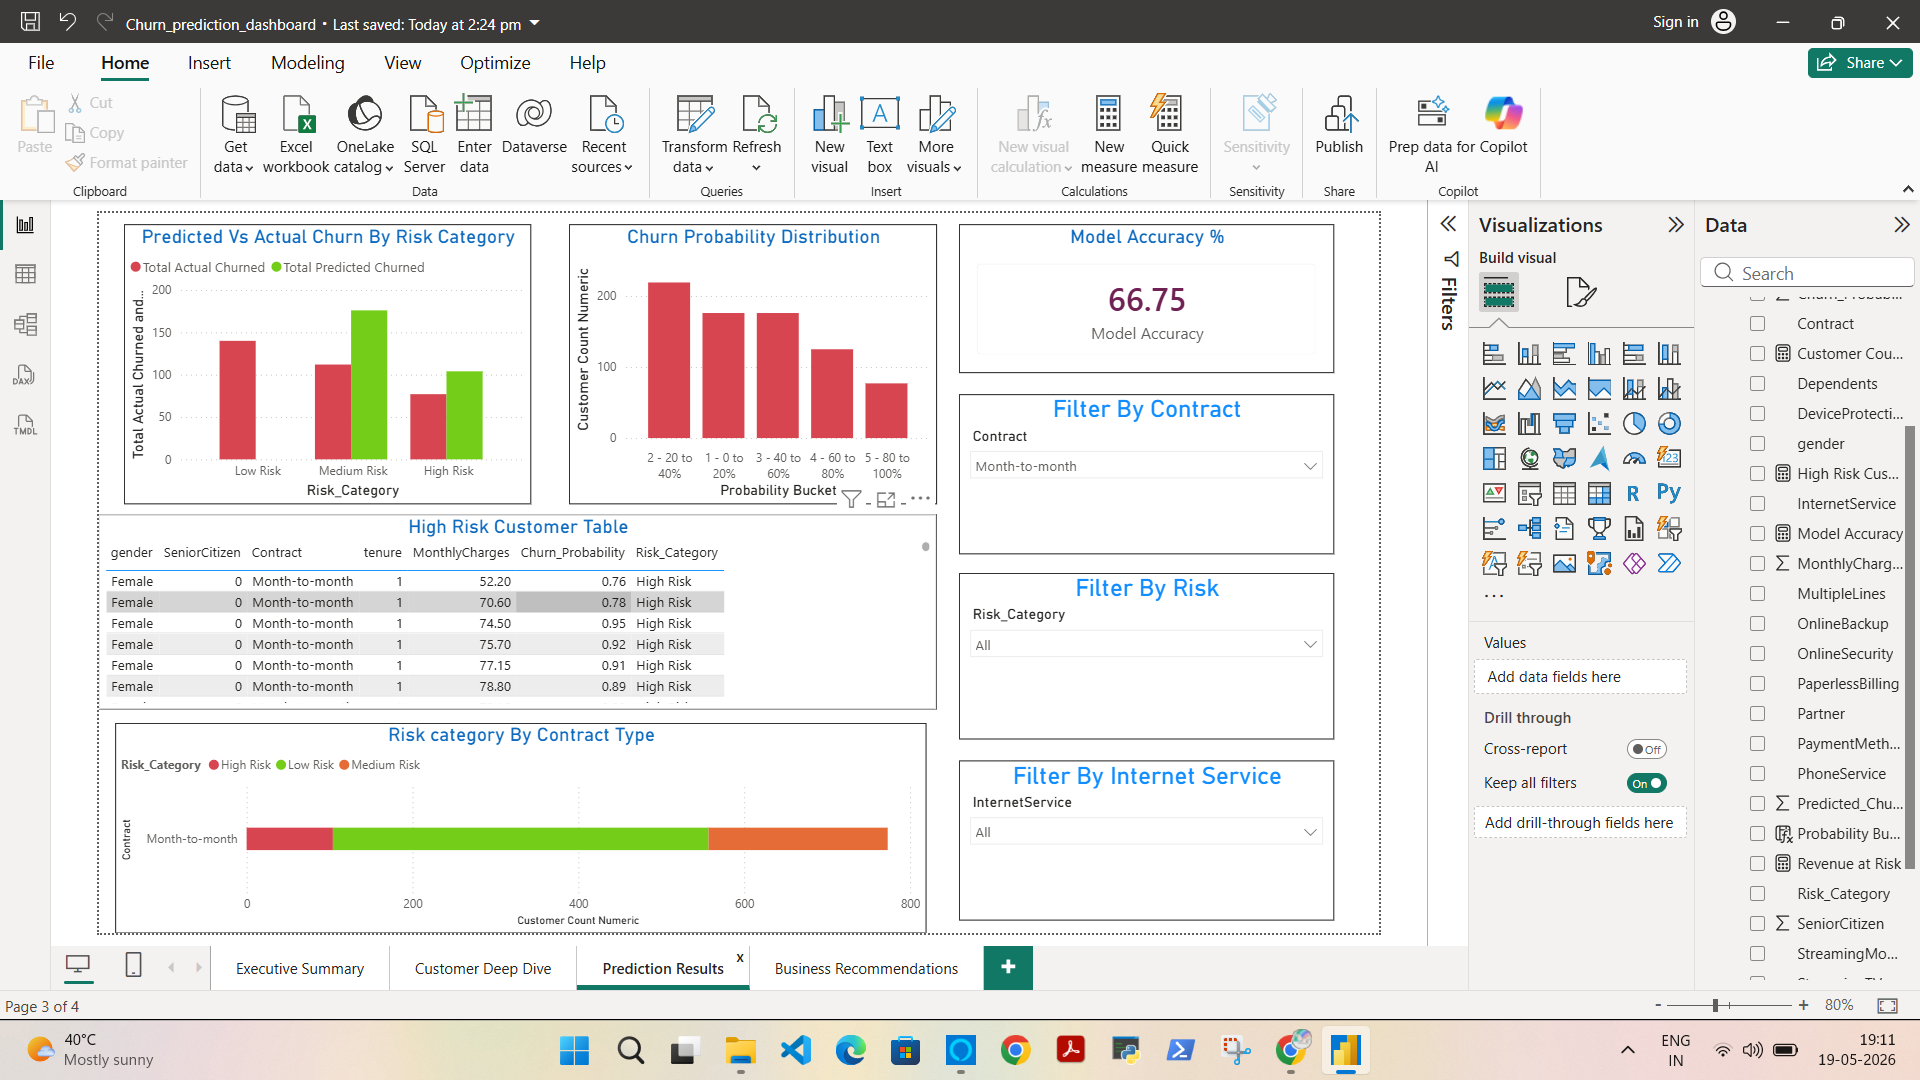

Layout of this report page (visuals, bound fields, positions):
{"tool":"powerbi","page":{"name":"Prediction Results","canvas":[1280,720],"ordinal":2},"visuals":[{"type":"clusteredColumnChart","title":"Predicted Vs Actual Churn By Risk Category","fields":{"Category":["churn_predictions.Risk_Category"],"Y":["Sum(churn_predictions.Actual_Churn)","Sum(churn_predictions.Predicted_Churn)"]},"box":[24.5,11,407.2,280],"z":0},{"type":"clusteredColumnChart","title":"Churn Probability Distribution","fields":{"Category":["churn_predictions.Probability Bucket"],"Y":["churn_predictions.Customer Count Numeric"]},"box":[469.6,11,368.1,280],"z":1},{"type":"tableEx","title":"High Risk Customer Table","fields":{"Values":["churn_predictions.gender","churn_predictions.SeniorCitizen","churn_predictions.Contract","churn_predictions.tenure","churn_predictions.MonthlyCharges","churn_predictions.Churn_Probability","churn_predictions.Risk_Category"]},"box":[0,301.2,837.5,195],"z":2},{"type":"barChart","title":"Risk category By Contract Type","fields":{"Y":["churn_predictions.Customer Count Numeric"],"Category":["churn_predictions.Contract"],"Series":["churn_predictions.Risk_Category"]},"box":[16.2,510,811.2,210],"z":3},{"type":"cardVisual","title":"Model Accuracy %","fields":{"Data":["churn_predictions.Model Accuracy"]},"box":[859.7,11,375.4,149.2],"z":4},{"type":"slicer","title":"Filter By  Contract","fields":{"Values":["churn_predictions.Contract"]},"box":[860,181.2,375,160],"z":5},{"type":"slicer","title":"Filter By  Risk","fields":{"Values":["churn_predictions.Risk_Category"]},"box":[860,360,375,166.2],"z":6},{"type":"slicer","title":"Filter By Internet Service","fields":{"Values":["churn_predictions.InternetService"]},"box":[860,547.5,375,160],"z":7}]}

Visuals, with their boxes on the page's 1280x720 design canvas (x1, y1, x2, y2). These are canvas units, not pixel positions in the 1920x1080 screenshot, which may show the page scaled, cropped or inside an application window:
"Predicted Vs Actual Churn By Risk Category" clusteredColumnChart: Rect(24, 11, 432, 291)
"Churn Probability Distribution" clusteredColumnChart: Rect(470, 11, 838, 291)
"High Risk Customer Table" tableEx: Rect(0, 301, 838, 496)
"Risk category By Contract Type" barChart: Rect(16, 510, 827, 720)
"Model Accuracy %" cardVisual: Rect(860, 11, 1235, 160)
"Filter By  Contract" slicer: Rect(860, 181, 1235, 341)
"Filter By  Risk" slicer: Rect(860, 360, 1235, 526)
"Filter By Internet Service" slicer: Rect(860, 548, 1235, 708)
